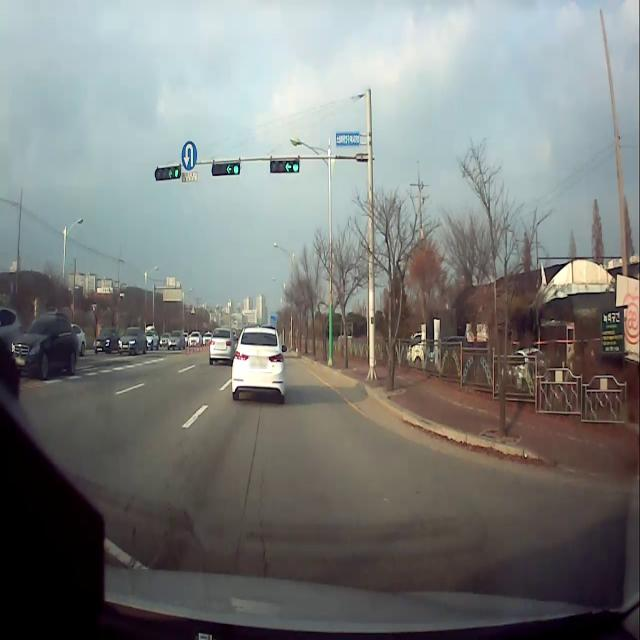Green Light: (292, 162, 299, 172), (233, 163, 239, 174), (174, 167, 180, 178)
